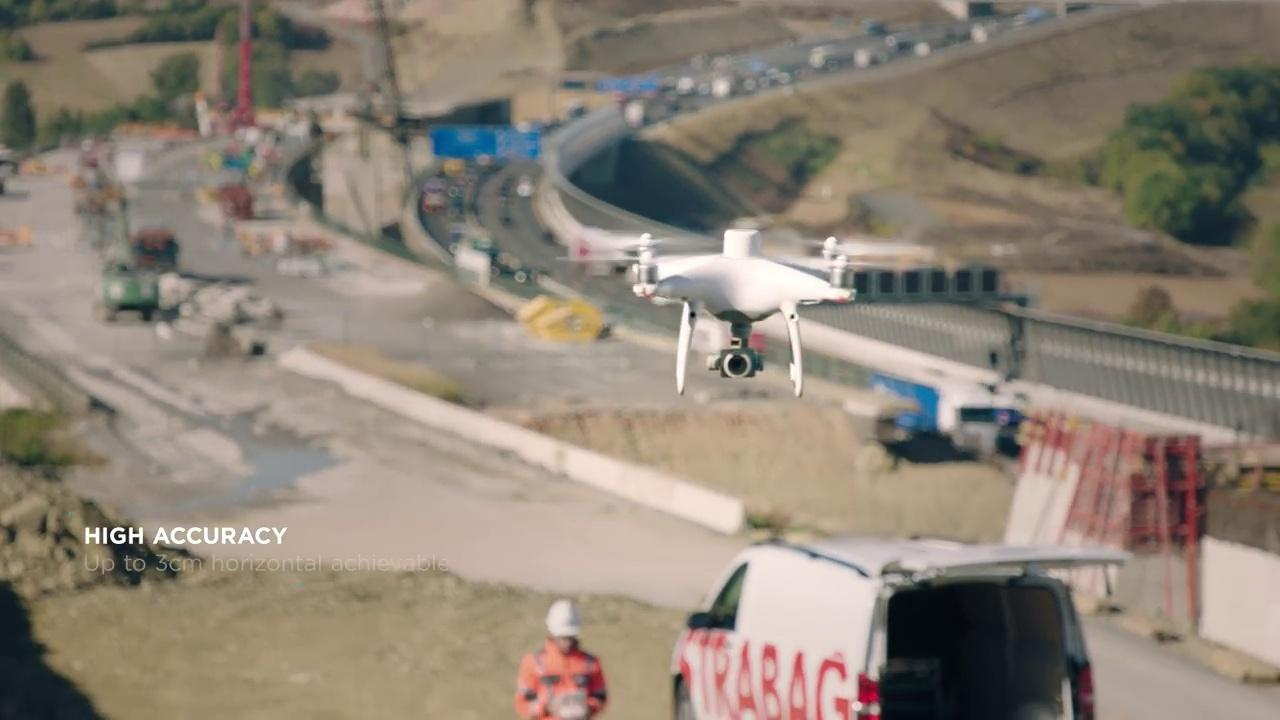drone: (567, 222, 935, 397)
